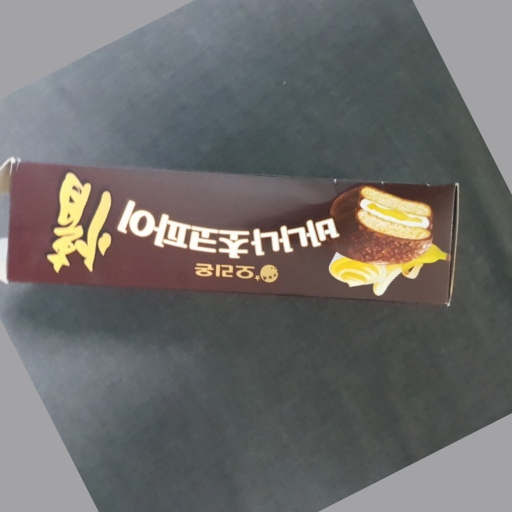Paper_0: (1, 154, 466, 312)
